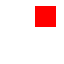square: (35, 6, 55, 26)
